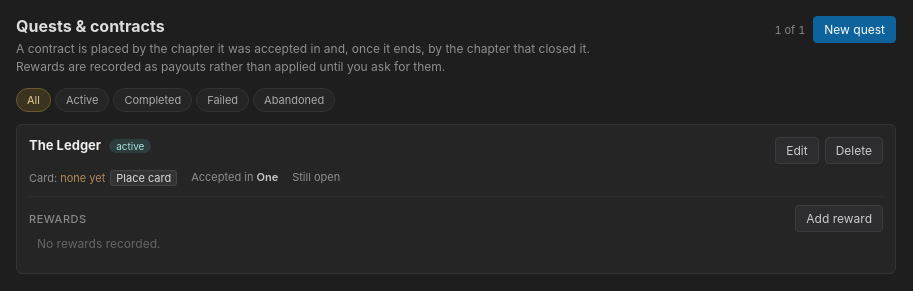
Test: the status filter › says so when the chosen status matches nothing
Click the button "Failed" at (223, 100), box top-left (196, 88), bottom-right (249, 112)
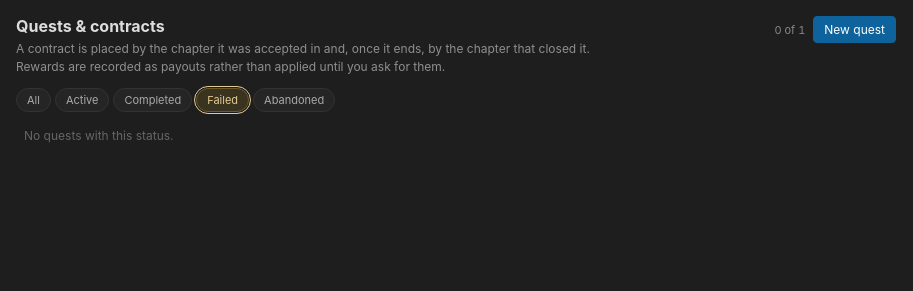
Expected: the text "No quests with this status." is shown, top-left (24, 128), bottom-right (174, 143)
Expected: the message reads "0 of 1", top-left (774, 22), bottom-right (805, 36)
